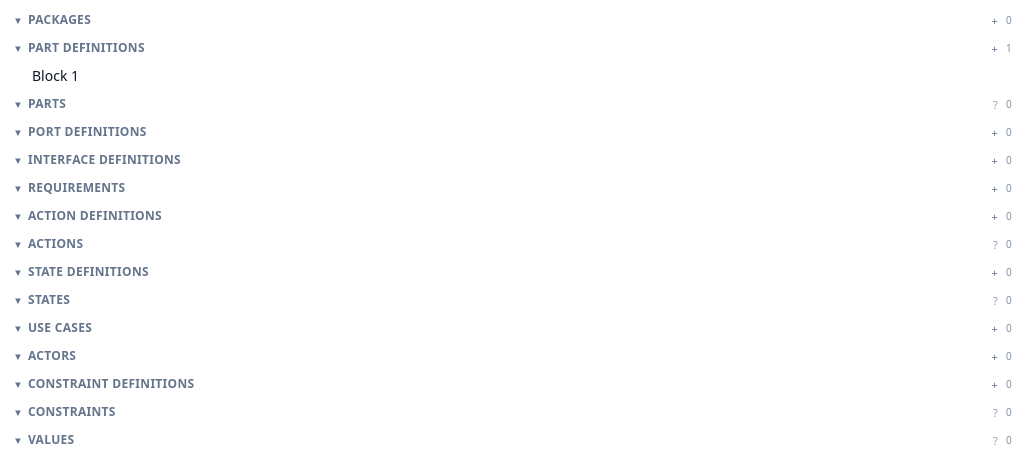
it: <ProjectTree /> › clicking a group toggles aria-expanded and hides its children when collapsed
Click the list item with test id "project-tree-group-PartDefinition": x=86, y=48 8,36 -> 1016,60
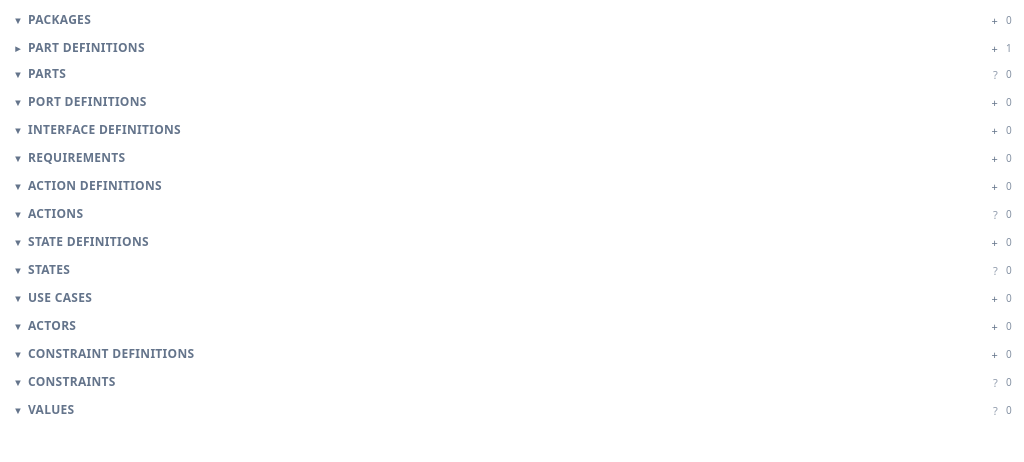
Now the list item with test id "project-tree-group-PartDefinition" is collapsed
Click the list item with test id "project-tree-group-PartDefinition": x=86, y=48 8,36 -> 1016,60
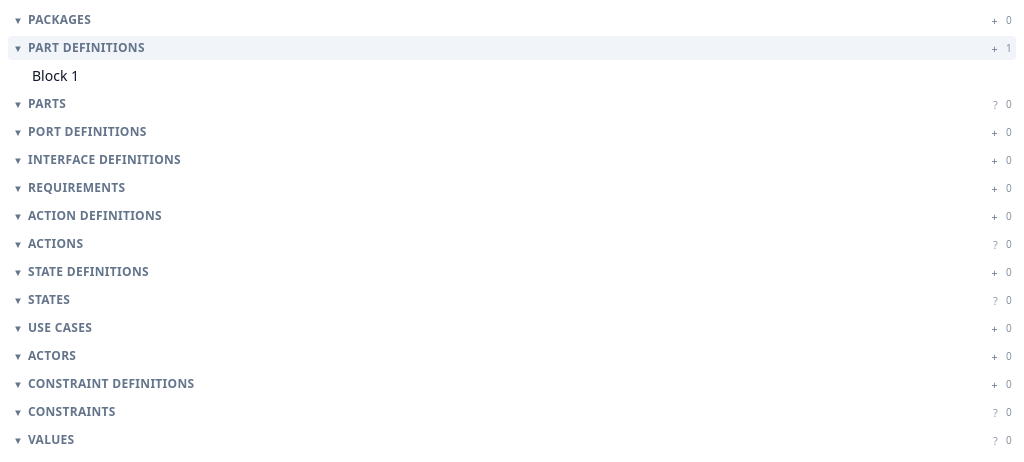
Now the list item with test id "project-tree-group-PartDefinition" is expanded, box 8,36 -> 1016,60
